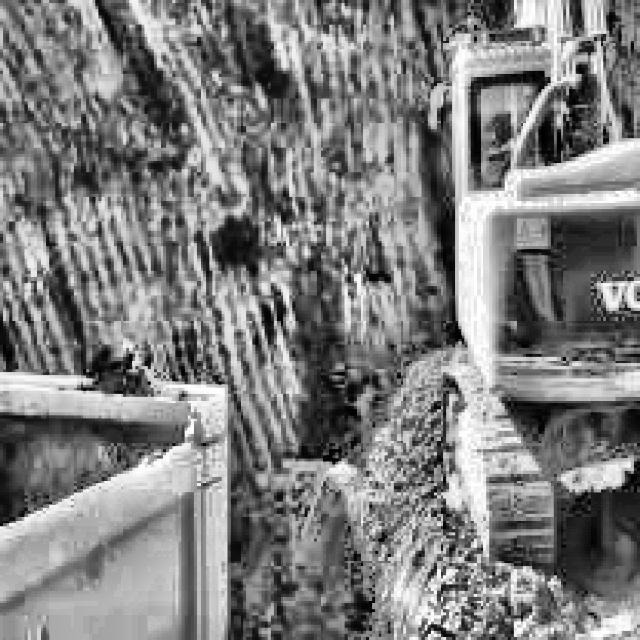excavator: (424, 0, 640, 584)
